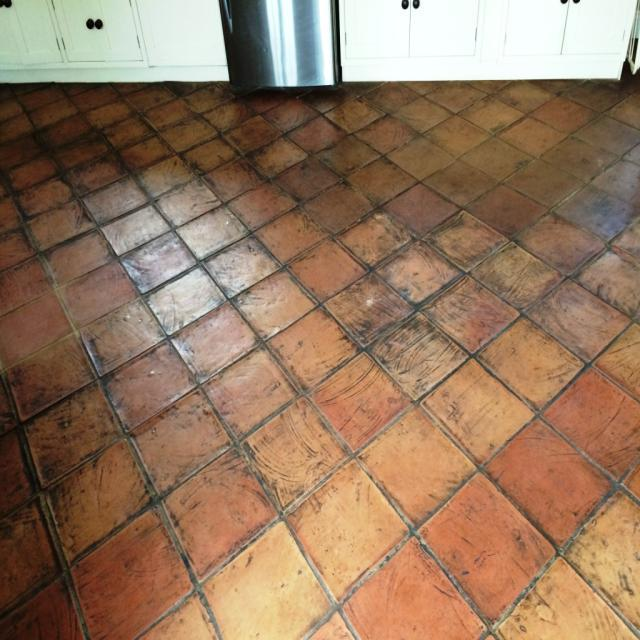damage: (216, 0, 342, 96)
dirty_floor: (0, 76, 639, 639)
